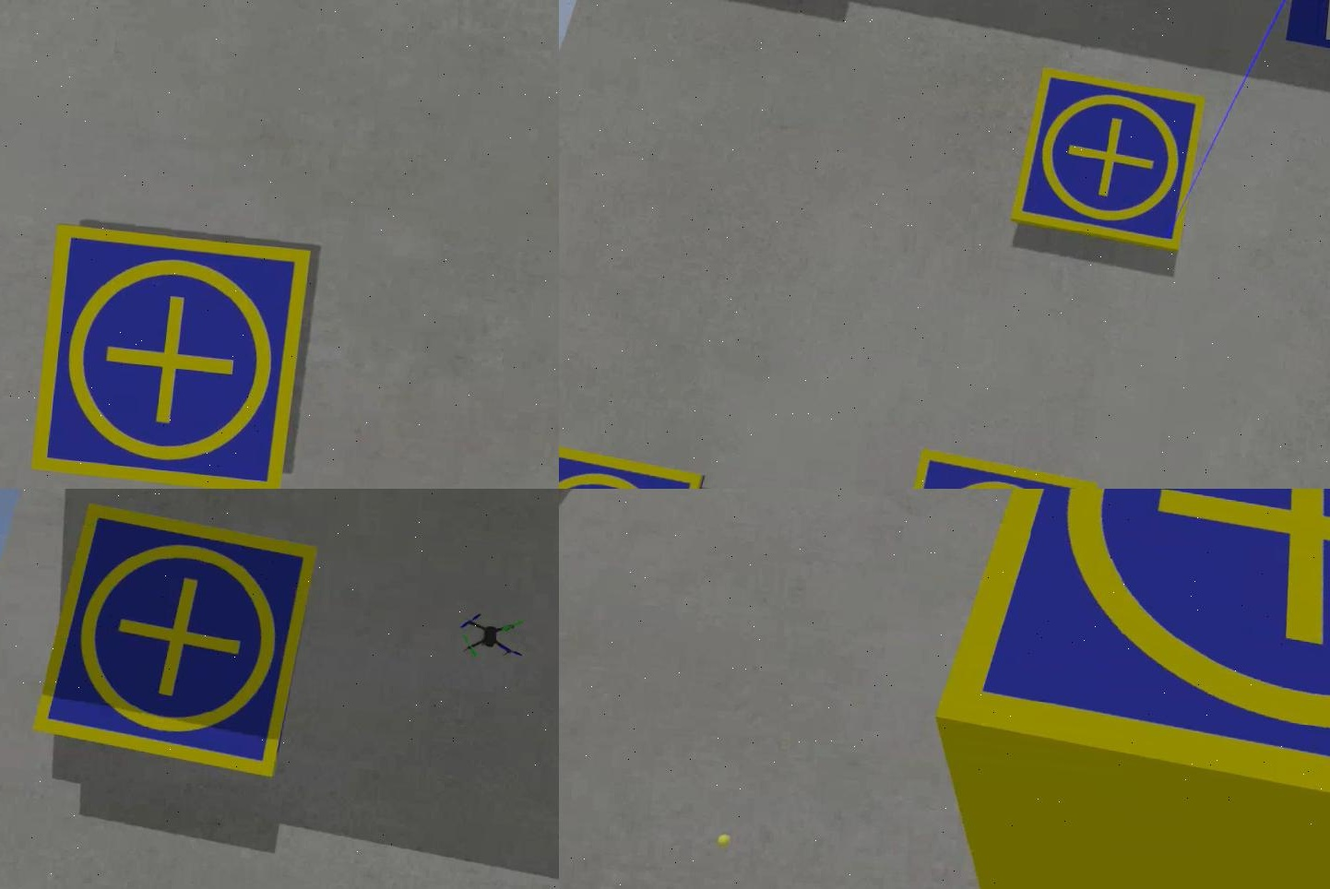small_base: (921, 490, 1328, 880), (28, 502, 317, 786), (25, 221, 312, 490), (1006, 66, 1208, 256)
